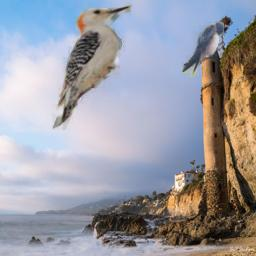Swallow: (182, 22, 224, 77)
Woodpecker: (52, 0, 132, 130)
